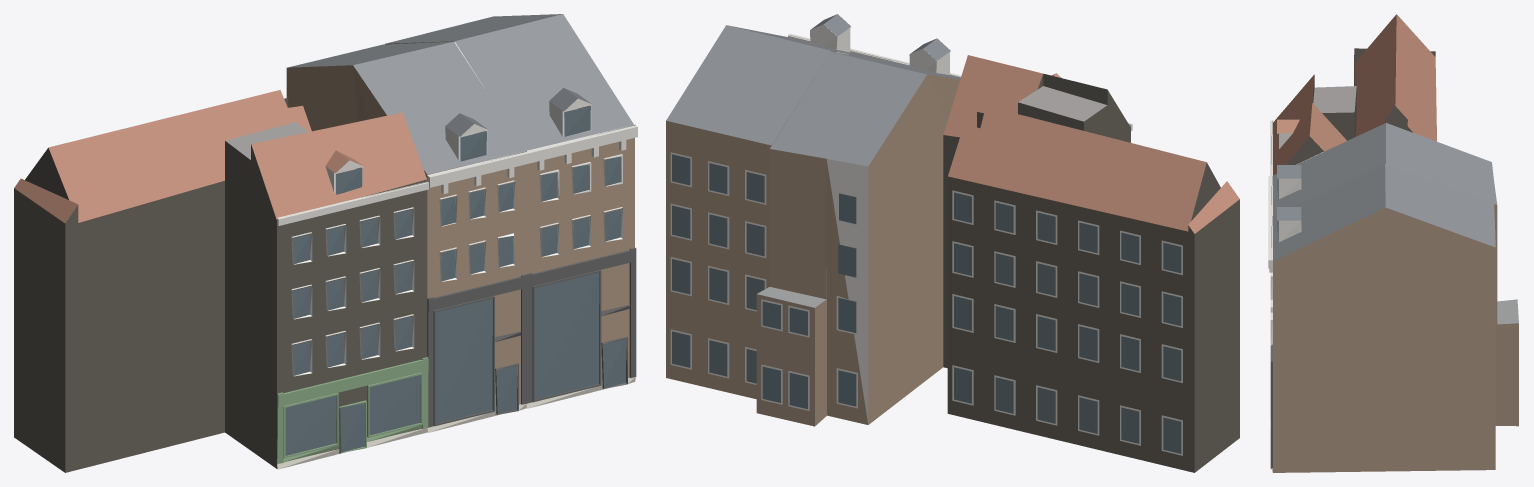
File: chunk-face-bilder-159426-165632.lod2.glb
3 views of the same model, side by side, from view 1: azimuth 30°, elevation 25°; view 2: azimuth 150°, elevation 25°; view 3: azimuth 270°, elevation 25° (orthographic). The views are drawn at different scales.
Parts seen in each view (by area): view 1: lod2; view 2: lod2; view 3: lod2.
Boxes of the visible parts, left/top/right/bottom form: lod2: left=14, top=14, right=637, bottom=472; lod2: left=666, top=14, right=1239, bottom=472; lod2: left=1268, top=14, right=1518, bottom=472.
Size of the model in its own units: 29.18 by 17.01 by 14.67.
